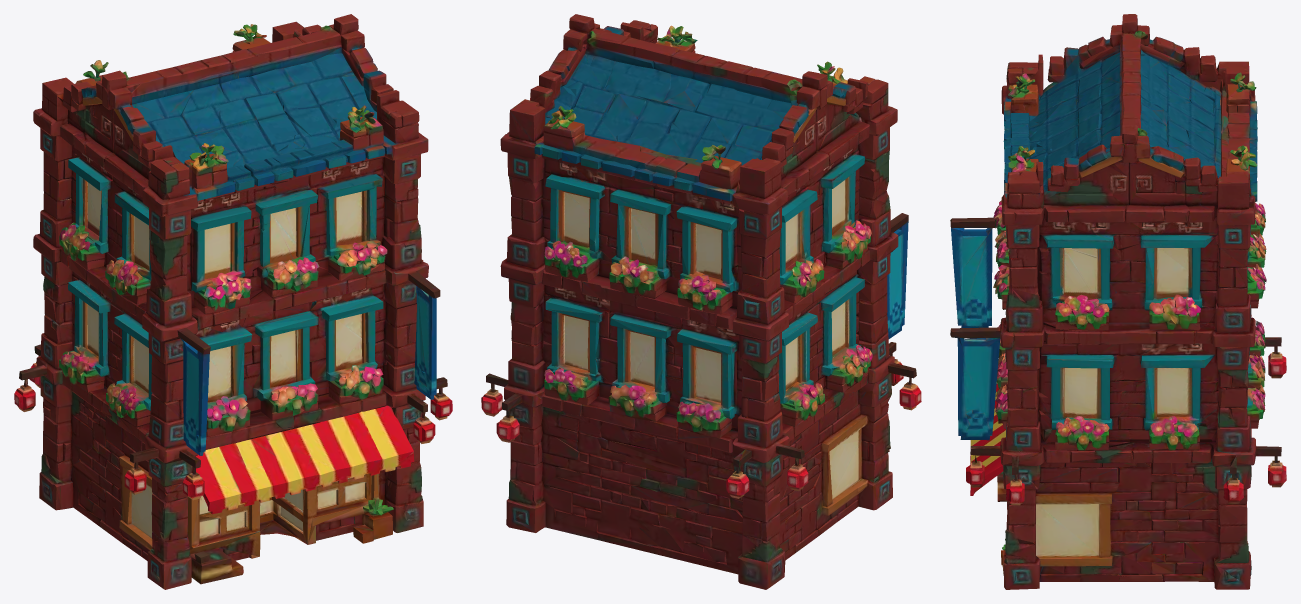
File: street_b1.glb
3 views of the same model, side by side, from view 1: azimuth 30°, elevation 25°; view 2: azimuth 150°, elevation 25°; view 3: azimuth 270°, elevation 25° (orthographic). The views are drawn at different scales.
Parts seen in each view (by area): view 1: building_b1_redbrick; view 2: building_b1_redbrick; view 3: building_b1_redbrick.
Part boxes in pixels (x1,y1,x2,y2): building_b1_redbrick: [14, 14, 452, 589]; building_b1_redbrick: [481, 14, 921, 589]; building_b1_redbrick: [950, 14, 1286, 589].
Size of the model in its own units: 7.98 by 11 by 7.37.
Materials: 1 (1 with a texture image).
